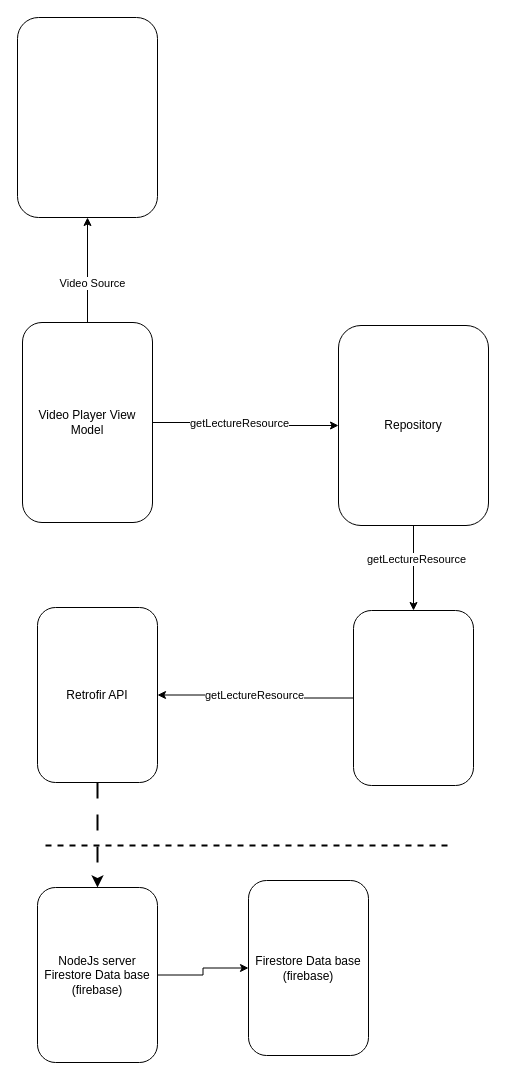
Some shapes in this 506 by 1080 pixel diagram are drawn without their labels. The box of each missing label's shape, as (x1, y1, x2, y2) in pixels:
Data Source: (352, 610, 474, 786)
Video Player Screen Media 3 Exoplayer: (16, 16, 158, 218)
